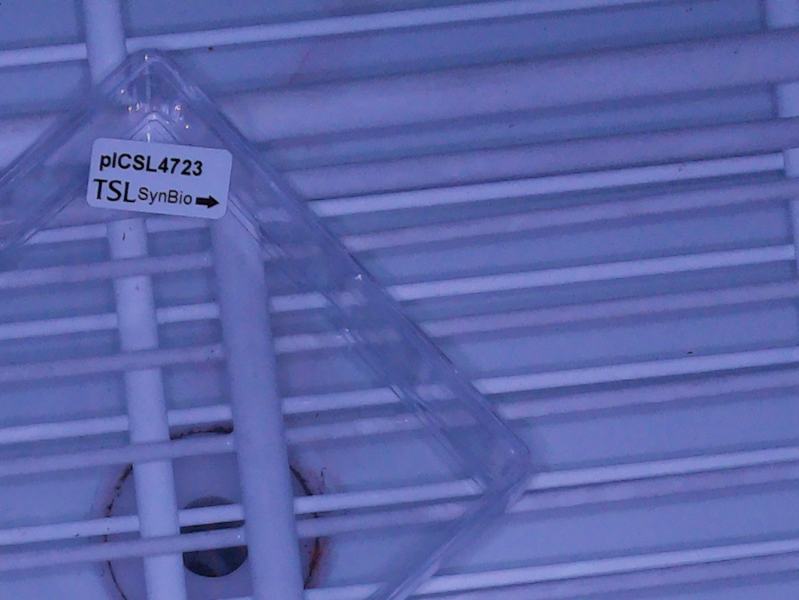plate: (1, 44, 539, 600)
